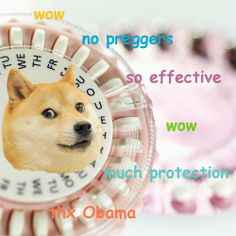doge: (2, 62, 102, 179)
